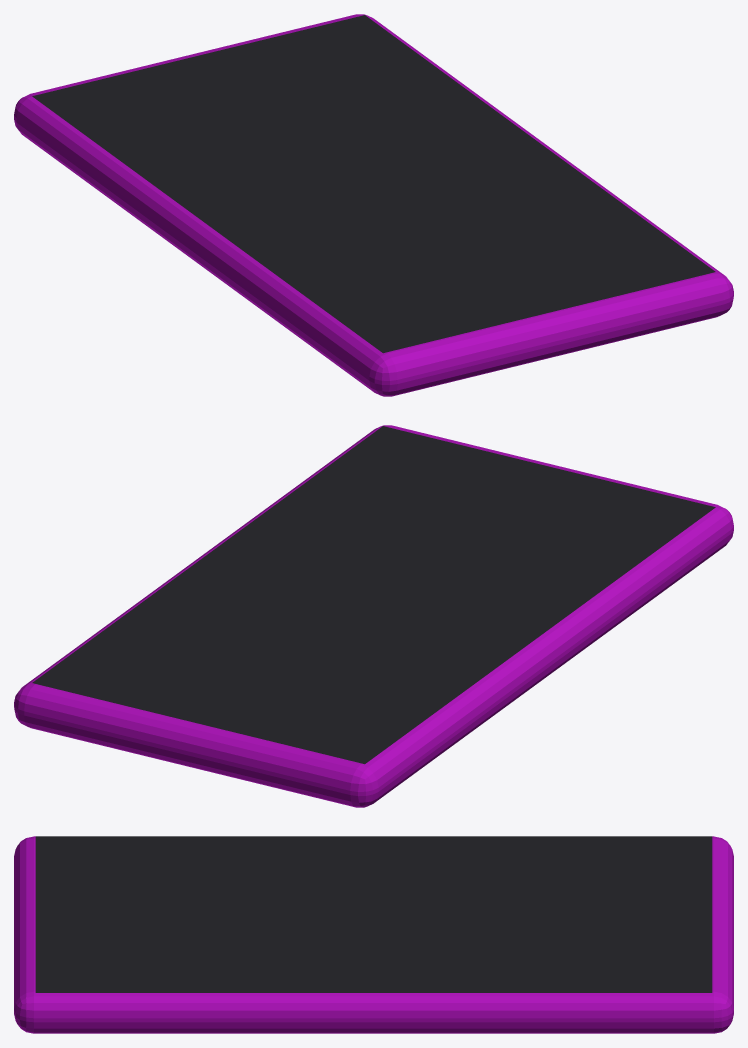
Rendered from Phone_302.glb.
3 renders of one model, top to bottom at view 1: azimuth 30°, elevation 25°; view 2: azimuth 150°, elevation 25°; view 3: azimuth 270°, elevation 25°, orthographic. The views are drawn at different scales.
Parts seen in each view (by area): view 1: Phone_Screen, Phone_Body; view 2: Phone_Screen, Phone_Body; view 3: Phone_Screen, Phone_Body.
Part boxes in pixels (x1,y1,x2,y2): Phone_Screen: (32,15,715,353); Phone_Body: (14,14,733,396); Phone_Screen: (32,426,715,764); Phone_Body: (14,425,733,807); Phone_Screen: (35,836,712,992); Phone_Body: (14,836,733,1033).
Size of the model in its own units: 0.079 by 0.0088 by 0.1412.
